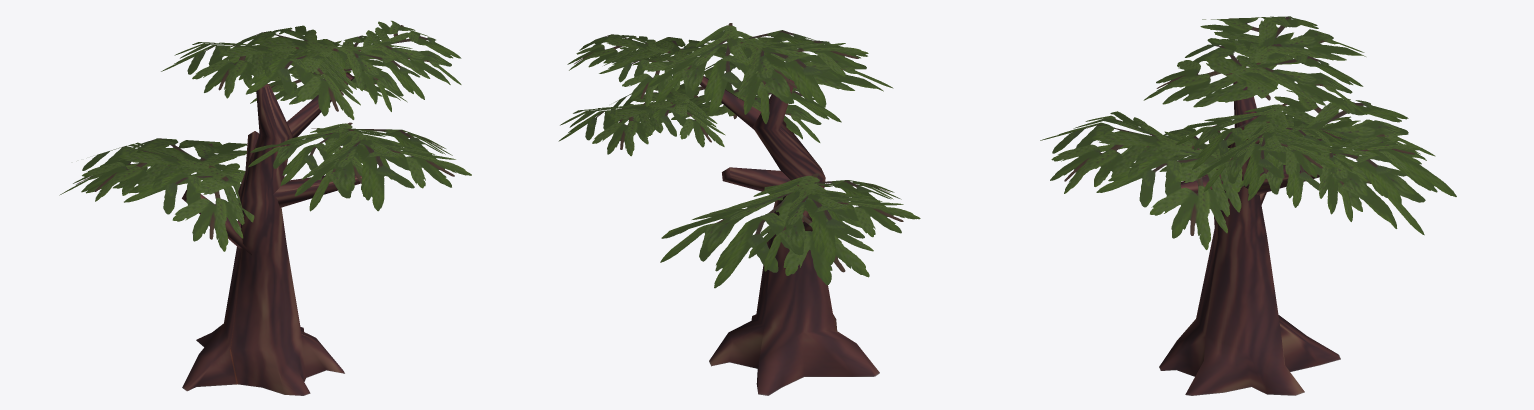
File: pine-tree-trunk-006-20.glb
The picture shows the model from 3 angles, left to right: view 1: azimuth 30°, elevation 25°; view 2: azimuth 150°, elevation 25°; view 3: azimuth 270°, elevation 25°; orthographic projection. The views are drawn at different scales.
Visible parts, largest first — view 1: pine_leaves_19, pine_Tree_Trunk.006_20; view 2: pine_leaves_19, pine_Tree_Trunk.006_20; view 3: pine_leaves_19, pine_Tree_Trunk.006_20.
Part boxes in pixels (left/top/right/bottom): pine_leaves_19: left=59, top=20, right=471, bottom=251; pine_Tree_Trunk.006_20: left=182, top=72, right=361, bottom=395; pine_leaves_19: left=558, top=23, right=920, bottom=288; pine_Tree_Trunk.006_20: left=700, top=76, right=879, bottom=395; pine_leaves_19: left=1040, top=16, right=1456, bottom=249; pine_Tree_Trunk.006_20: left=1159, top=60, right=1340, bottom=395.
Bounding box in the file's own units: 34.5 × 26.02 × 38.04.
Materials: 2 (2 with a texture image).
